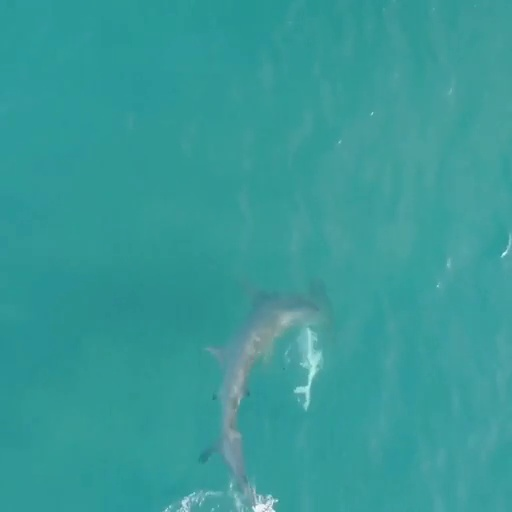shark: (198, 275, 338, 512)
